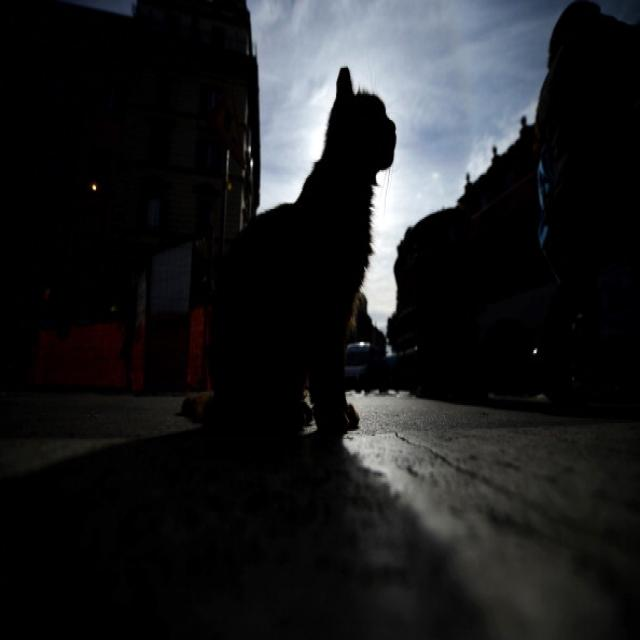Cat: (193, 65, 430, 518)
